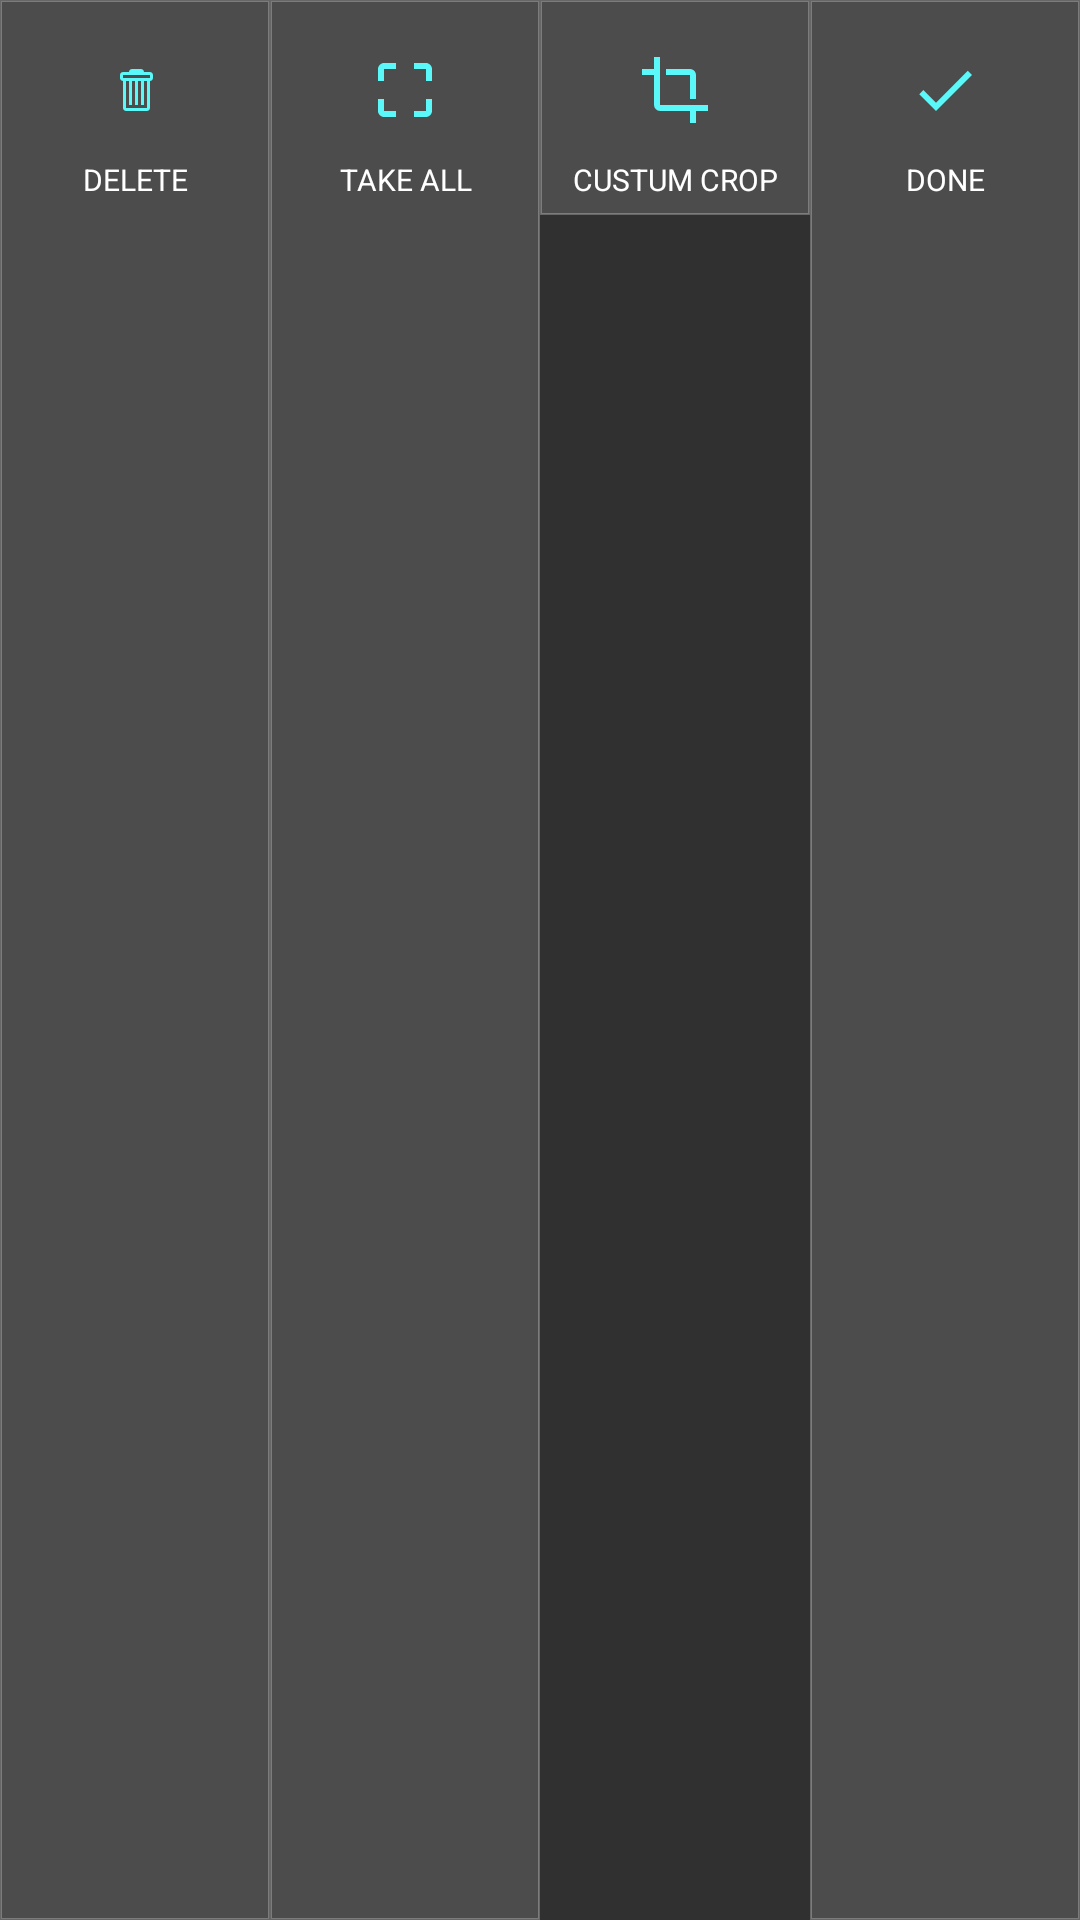

Locate icon controls on the screen. Image size 1080 × 1920, boxes as (x1, y1, x2, y2).
full: (378, 63, 432, 117)
